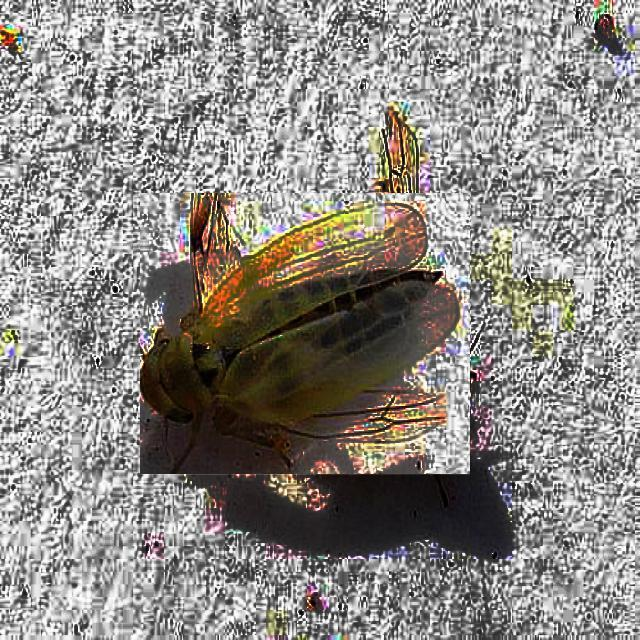green-leafhopper: (140, 194, 470, 476)
